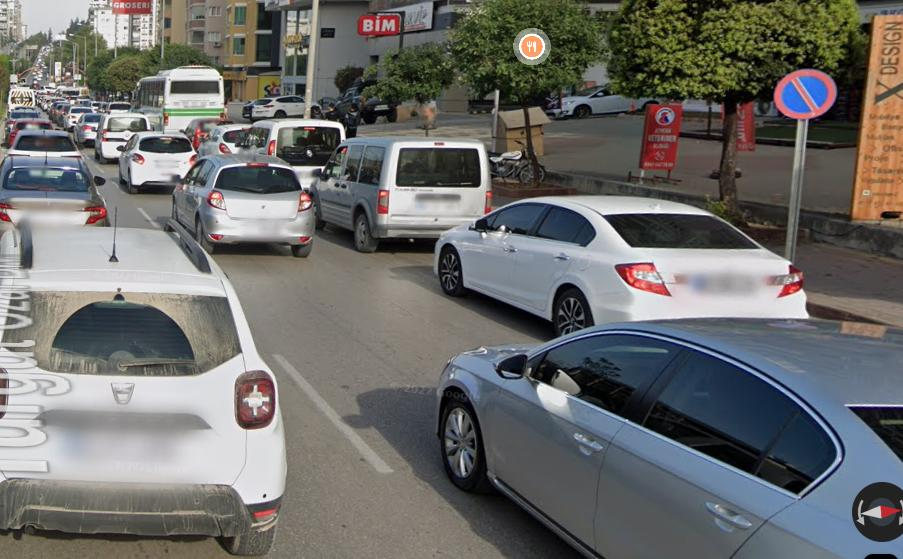nopark: (774, 67, 839, 123)
